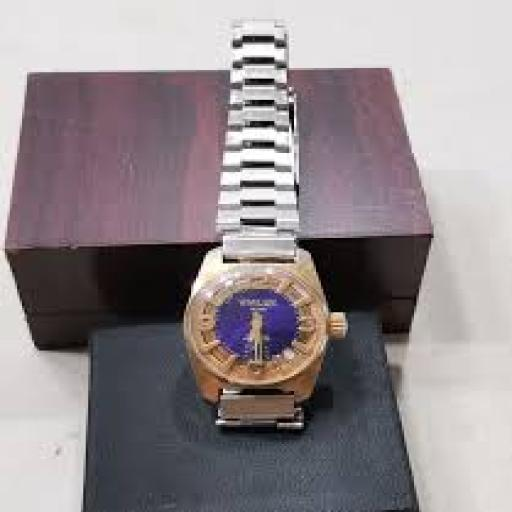KolSaati: (164, 6, 352, 455)
